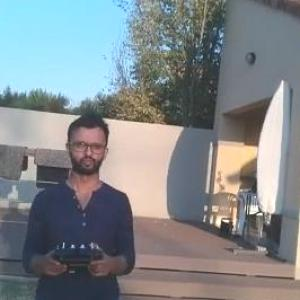follow: (15, 100, 143, 299)
